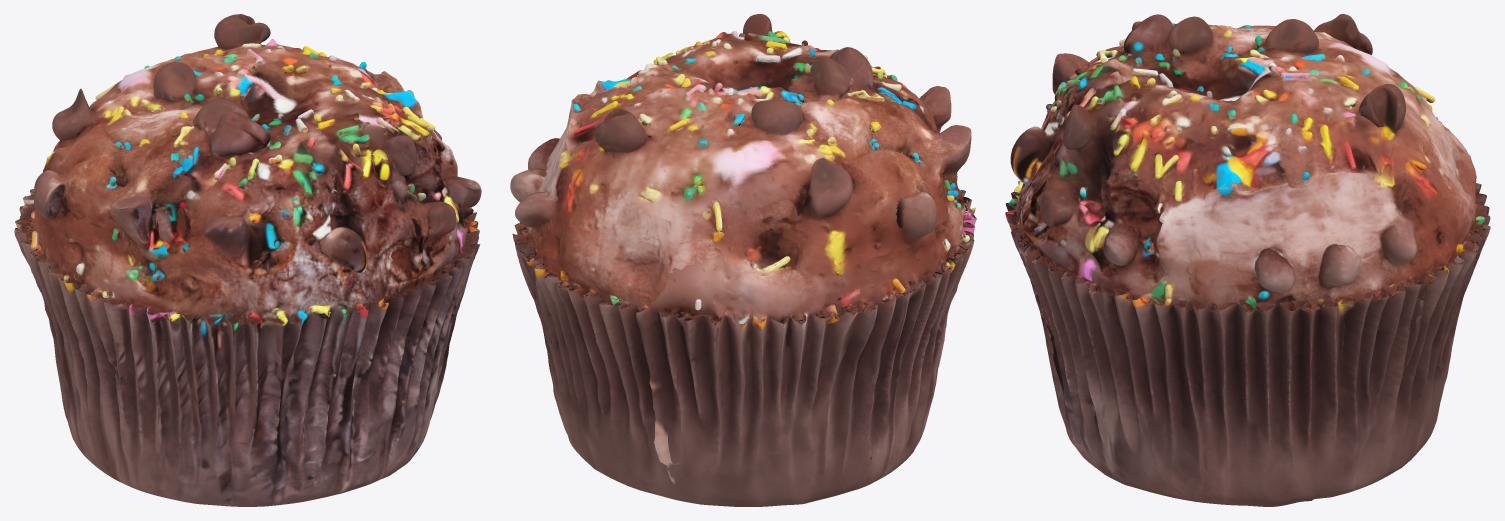
The model's file is base_basic_shaded.glb.
3 views of the same model, side by side, from view 1: azimuth 30°, elevation 25°; view 2: azimuth 150°, elevation 25°; view 3: azimuth 270°, elevation 25° (orthographic). The views are drawn at different scales.
Visible parts, largest first — view 1: model; view 2: model; view 3: model.
Boxes of the visible parts, left/top/right/bottom form: model: left=14, top=14, right=481, bottom=506; model: left=510, top=14, right=976, bottom=506; model: left=1005, top=14, right=1490, bottom=506.
Size of the model in its own units: 1.9 by 1.68 by 1.9.
Materials: 1 (1 with a texture image).
